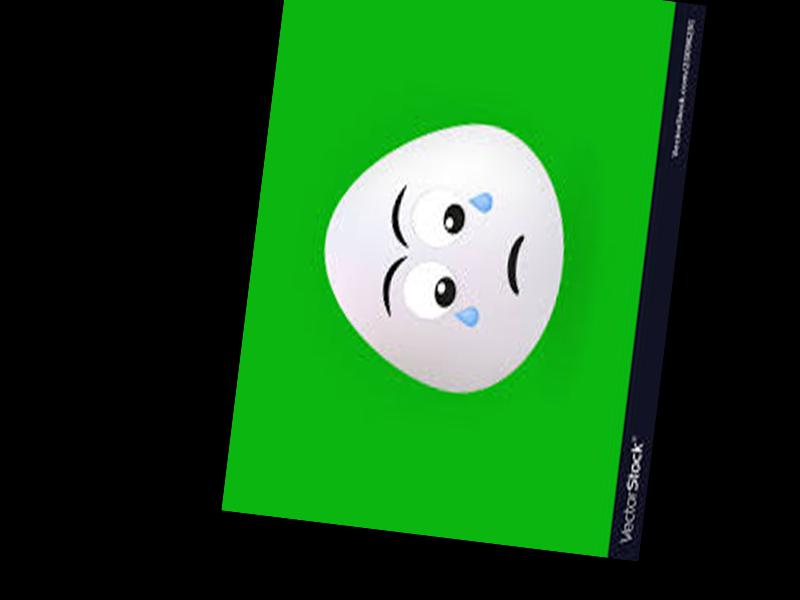Eggs: (310, 109, 578, 406)
